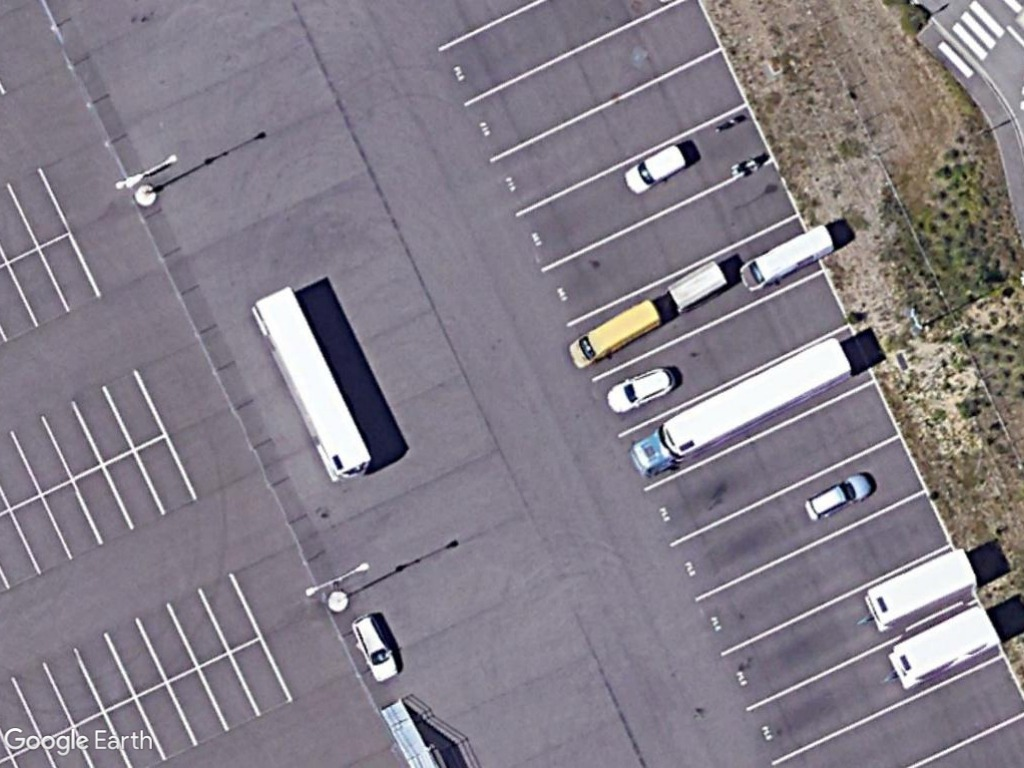car: (349, 611, 402, 684), (803, 470, 877, 522), (605, 364, 676, 418)
longvehicle: (628, 336, 854, 481)
van: (736, 220, 837, 293), (566, 295, 663, 371), (622, 139, 689, 197)
